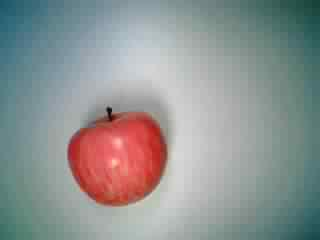apple: (64, 104, 168, 208)
